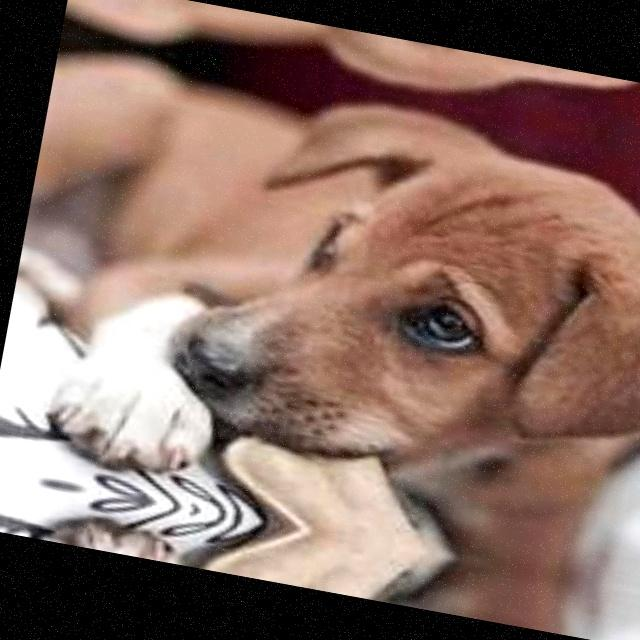dog: (87, 79, 640, 558), (70, 525, 640, 640), (166, 0, 640, 130)
